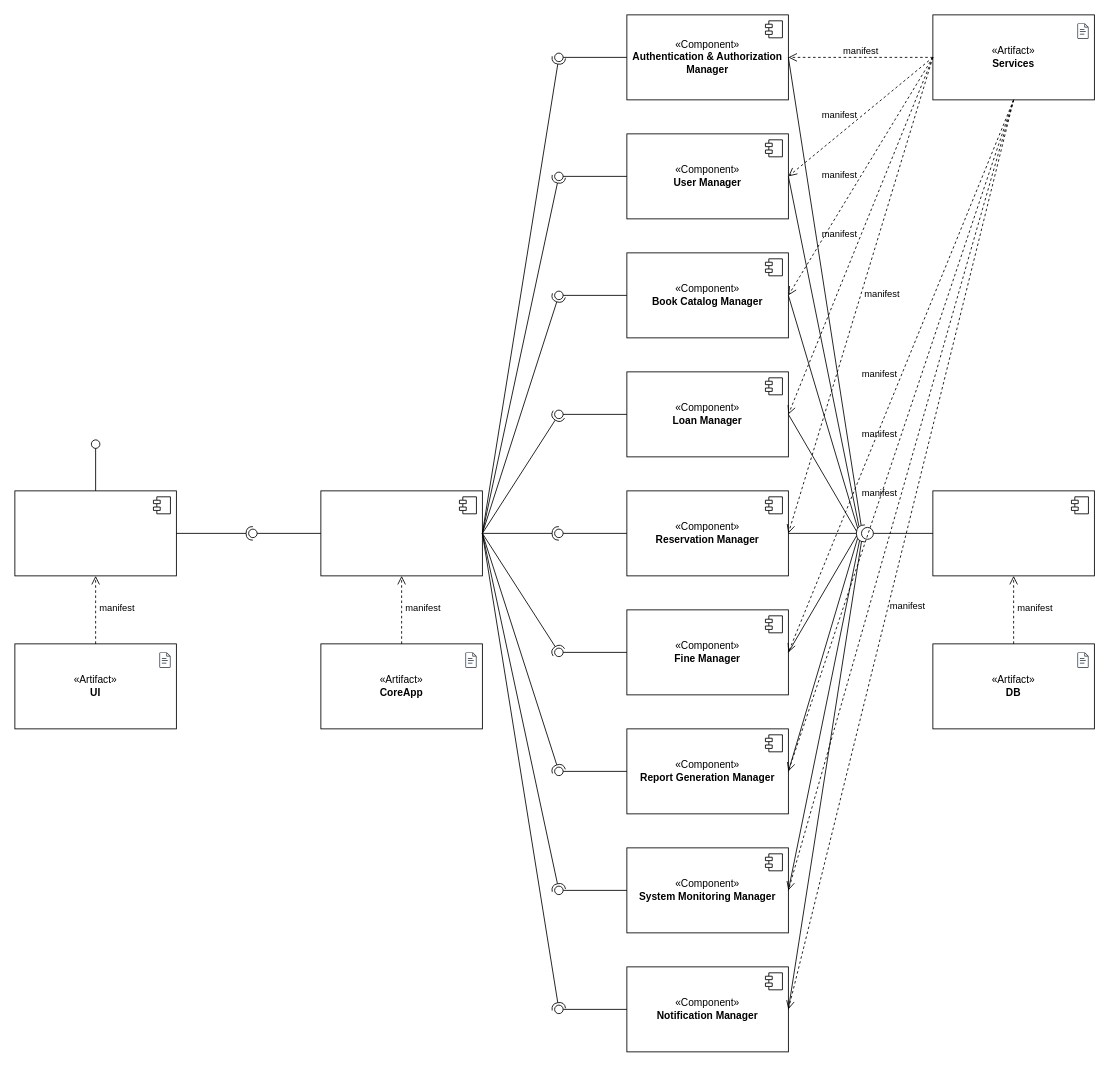
The diagram is 1109 pixels wide and 1067 high, and some of its shapes have lost their labels. The shapes that lost their labels are listed below. From the top down, each one's centre as x and y in pixels, then its label:
[95,533]: «Component» User Interface
[401,533]: «Component» Core
[1013,533]: «Component» Database
